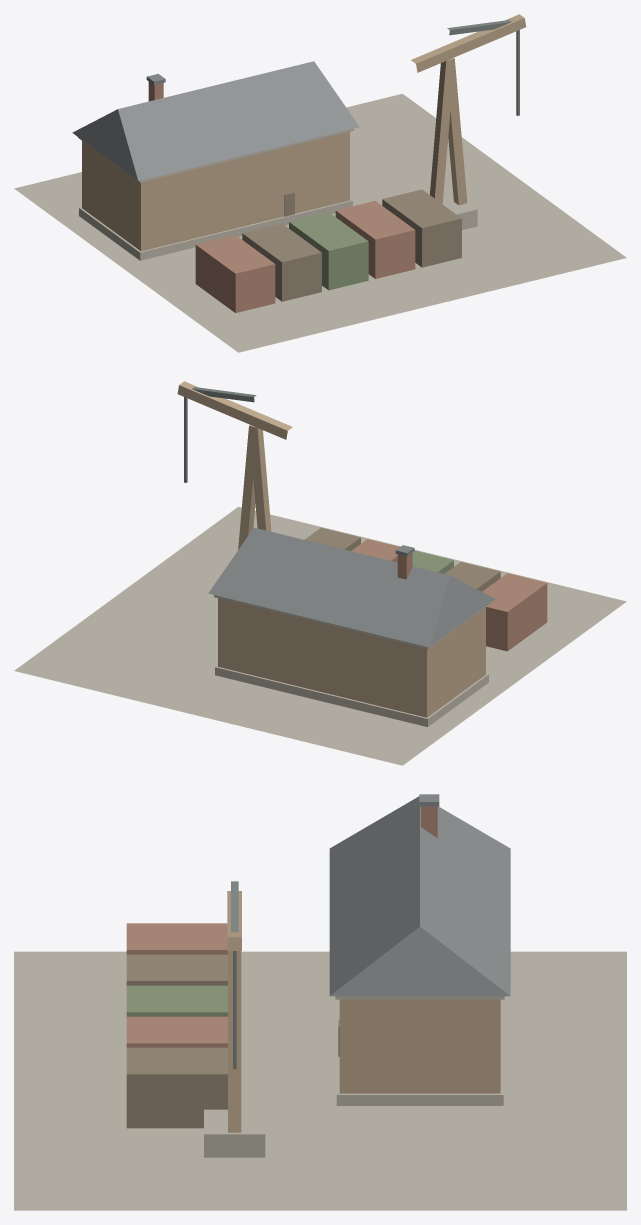
3 views of the same model, one above another, from view 1: azimuth 30°, elevation 25°; view 2: azimuth 150°, elevation 25°; view 3: azimuth 270°, elevation 25° (orthographic). The views are drawn at different scales.
Parts seen in each view (by area): view 1: Near; view 2: Near; view 3: Near.
Boxes of the visible parts, left/top/right/bottom form: Near: left=14, top=14, right=626, bottom=352; Near: left=14, top=381, right=626, bottom=765; Near: left=14, top=794, right=626, bottom=1210.
Bounding box in the file's own units: 4 × 1.9 × 4.
